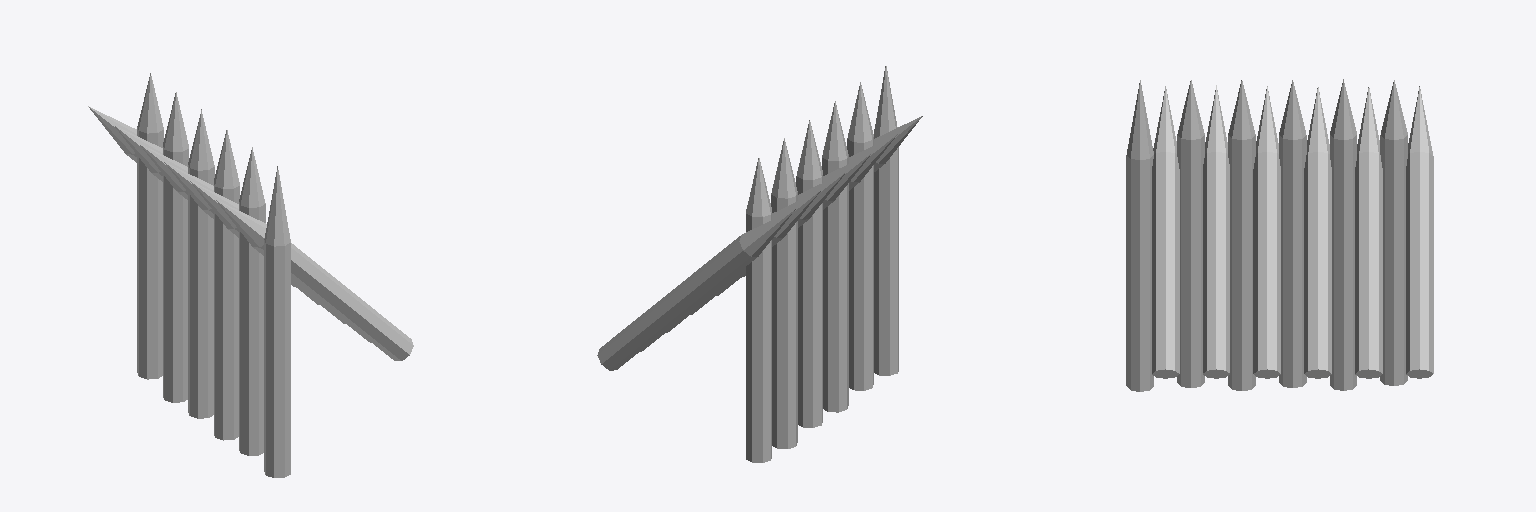
The model's file is stockade.obj.
3 renders of one model, left to right at view 1: azimuth 30°, elevation 25°; view 2: azimuth 150°, elevation 25°; view 3: azimuth 270°, elevation 25°, orthographic.
Visible parts, largest first — view 1: Cylinder; view 2: Cylinder; view 3: Cylinder.
Boxes of the visible parts, box(x1,y1,x2,y2) form: Cylinder: box(88, 73, 413, 477); Cylinder: box(597, 66, 922, 462); Cylinder: box(1126, 79, 1433, 391).
Size of the model in its own units: 4.47 by 6.68 by 6.04.